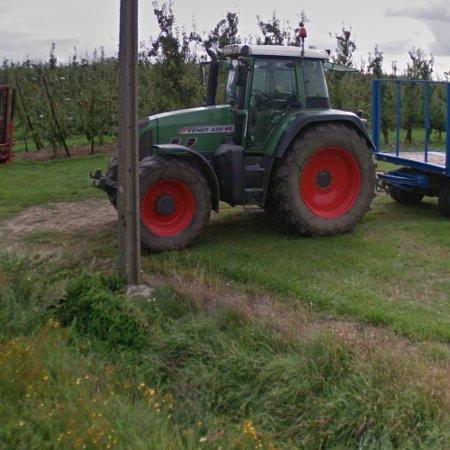tractors: (140, 46, 377, 252)
